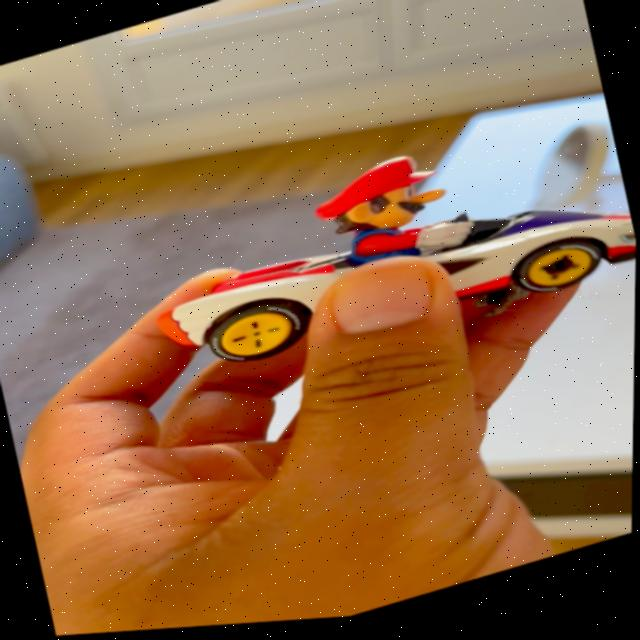mario: (160, 99, 634, 419)
